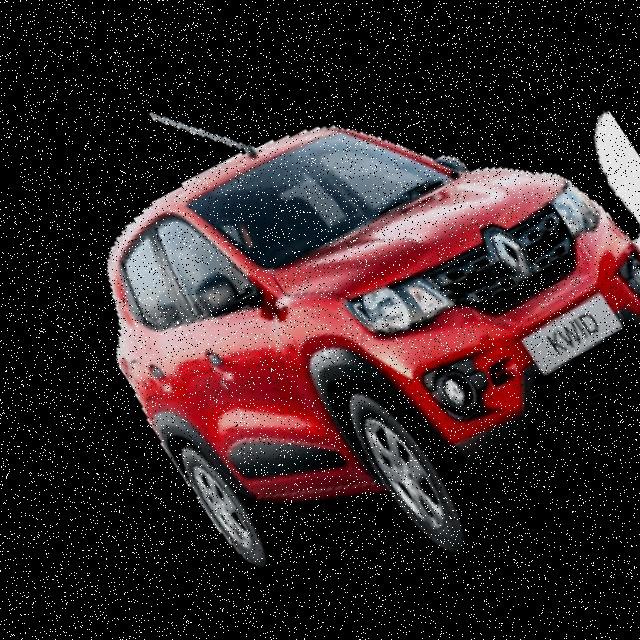license_plate: (484, 282, 632, 392)
